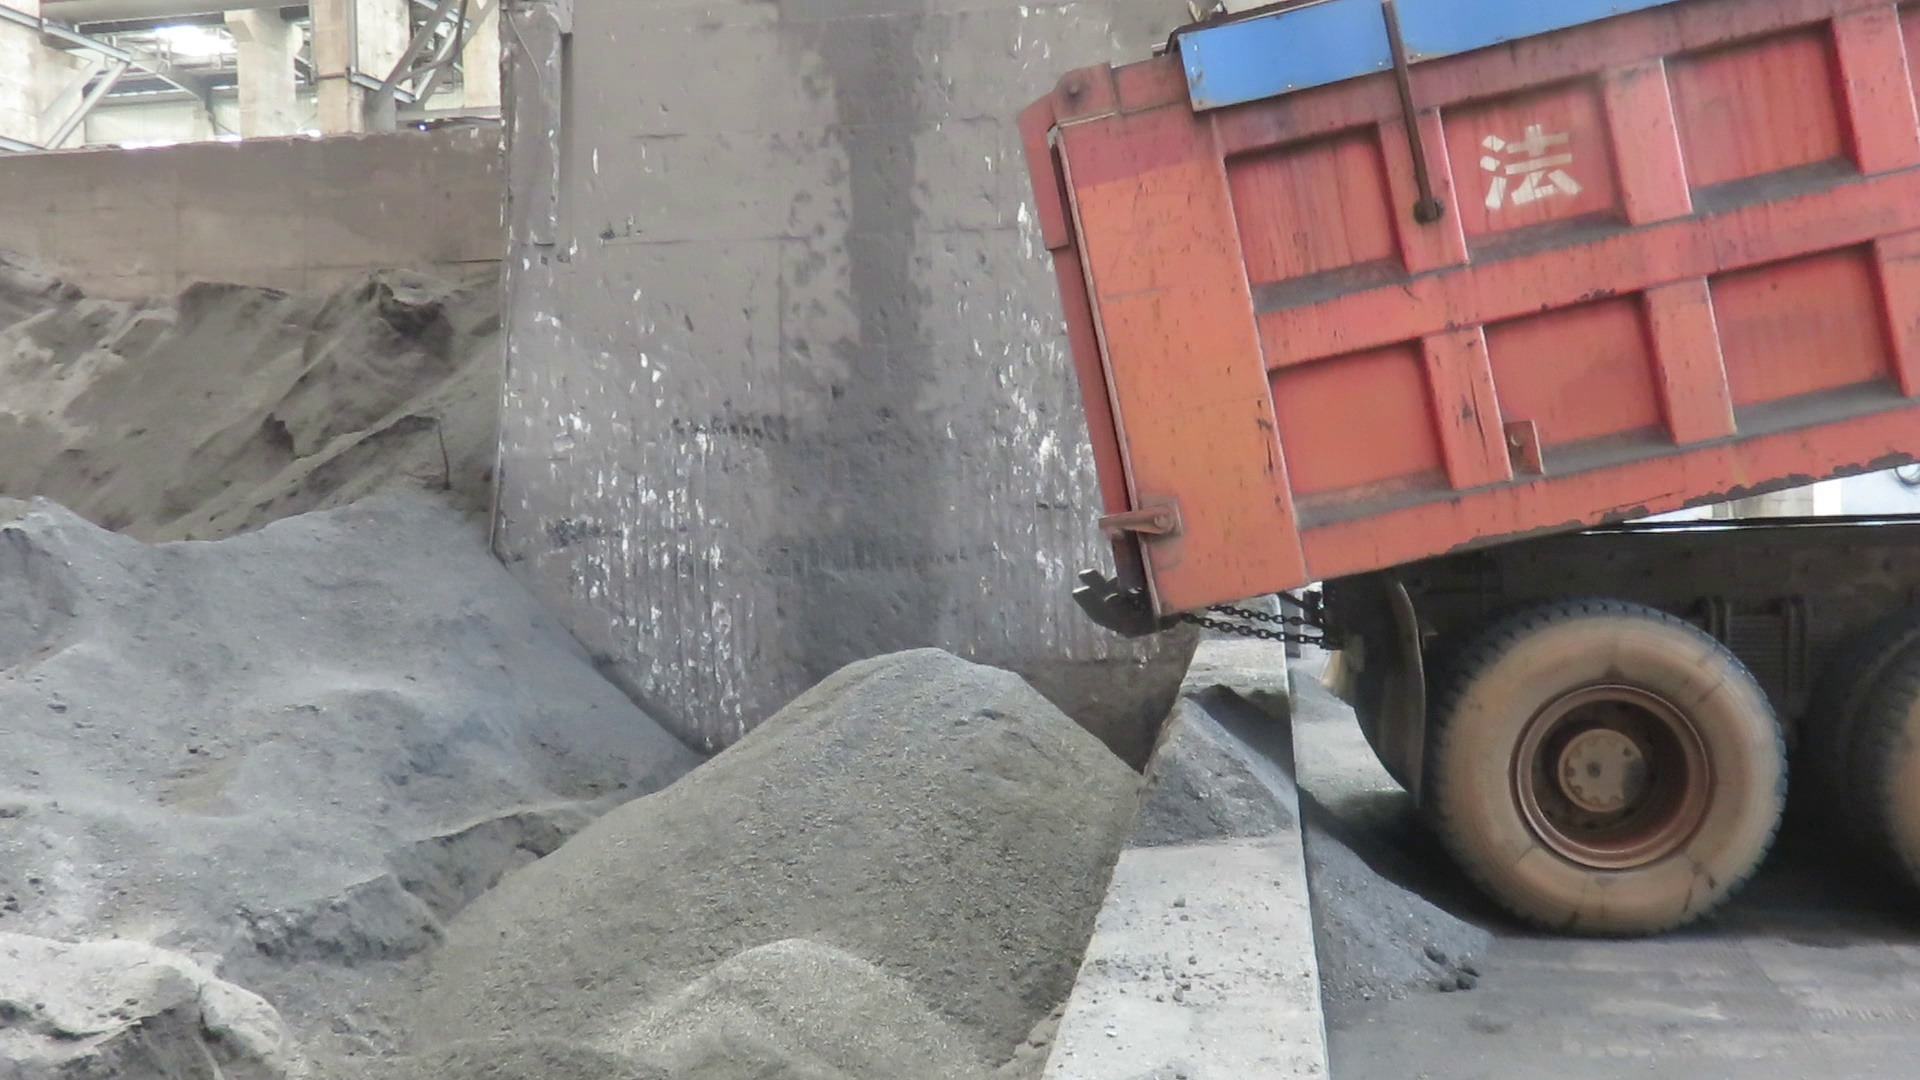truck: (1004, 0, 1920, 951)
